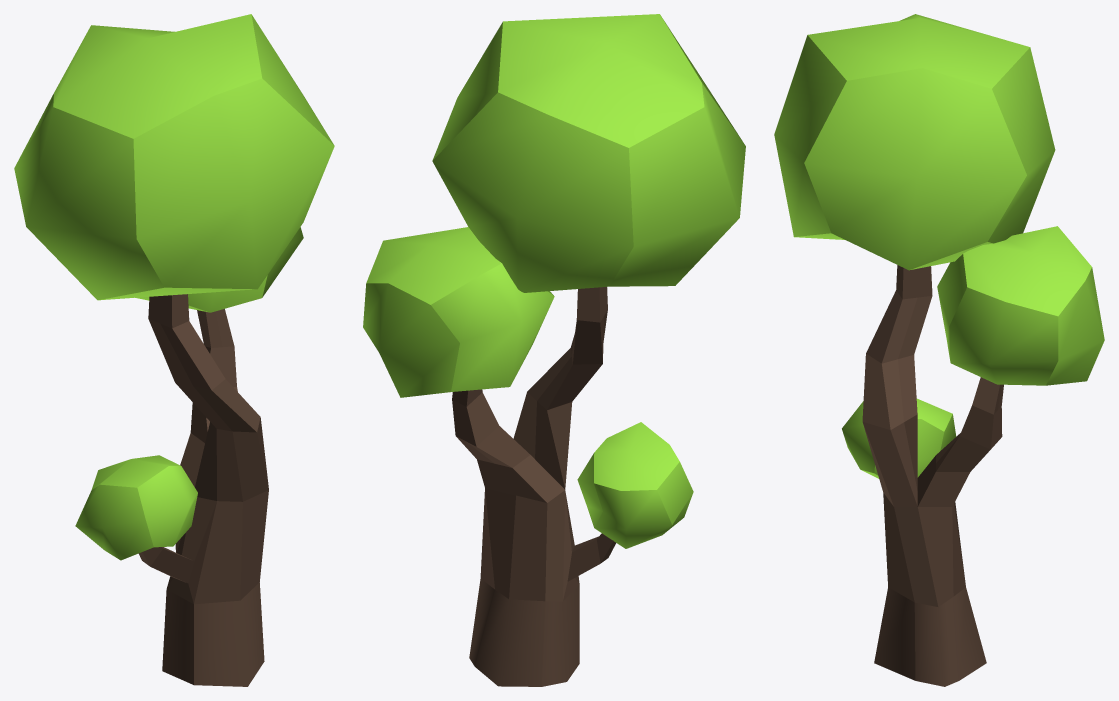
The model's file is tree2.glb.
The picture shows the model from 3 angles, left to right: view 1: azimuth 30°, elevation 25°; view 2: azimuth 150°, elevation 25°; view 3: azimuth 270°, elevation 25°; orthographic projection. The views are drawn at different scales.
Visible parts, largest first — view 1: pCube2, pCube1, pCube4, pCube3; view 2: pCube2, pCube1, pCube3, pCube4; view 3: pCube2, pCube1, pCube3, pCube4.
Boxes of the visible parts, x1,y1,x2,y2 form: pCube2: (14,14,334,300); pCube1: (138,294,268,686); pCube4: (75,455,197,560); pCube3: (135,227,303,312); pCube2: (432,14,745,292); pCube1: (452,287,615,686); pCube3: (363,227,554,397); pCube4: (577,422,693,548); pCube2: (774,14,1055,270); pCube1: (862,265,1003,686); pCube3: (937,226,1104,385); pCube4: (842,398,956,478).
Size of the model in its own units: 4.14 by 7.98 by 3.92.
